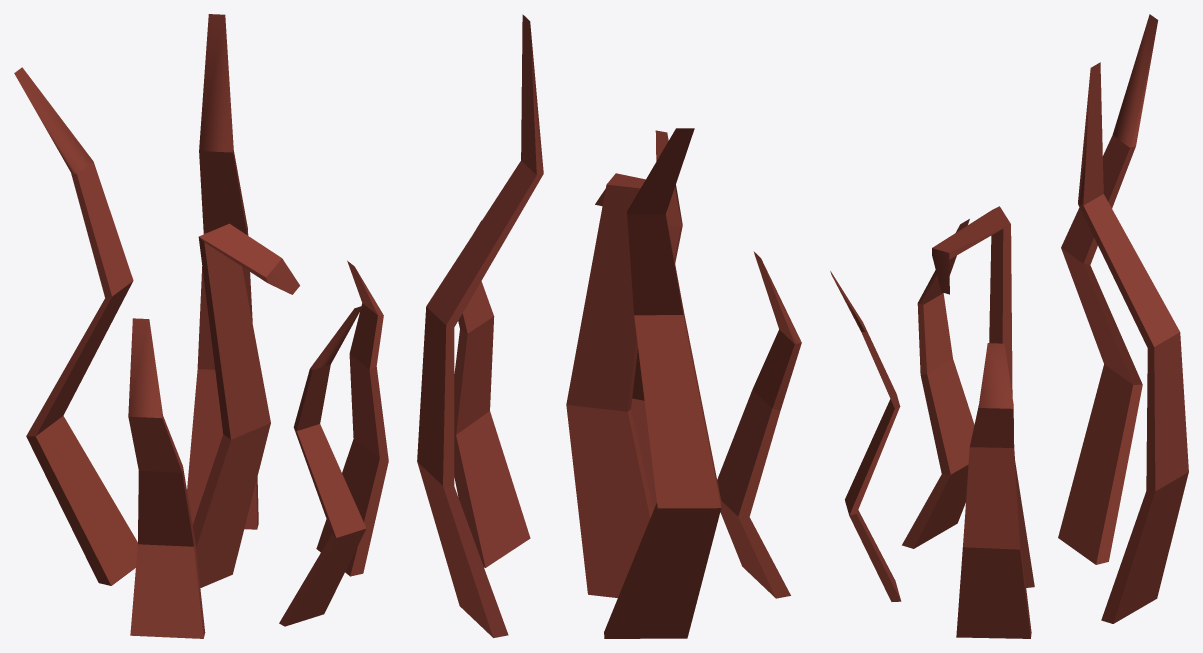
The model's file is Grass_3_Red.fbx.
3 views of the same model, side by side, from view 1: azimuth 30°, elevation 25°; view 2: azimuth 150°, elevation 25°; view 3: azimuth 270°, elevation 25° (orthographic). The views are drawn at different scales.
Parts seen in each view (by area): view 1: Grass_3_Red; view 2: Grass_3_Red; view 3: Grass_3_Red.
Boxes of the visible parts, x1,y1,x2,y2 form: Grass_3_Red: (14,14,388,638); Grass_3_Red: (417,14,801,638); Grass_3_Red: (830,14,1188,638).
Size of the model in its own units: 27.46 by 47.37 by 28.85.
